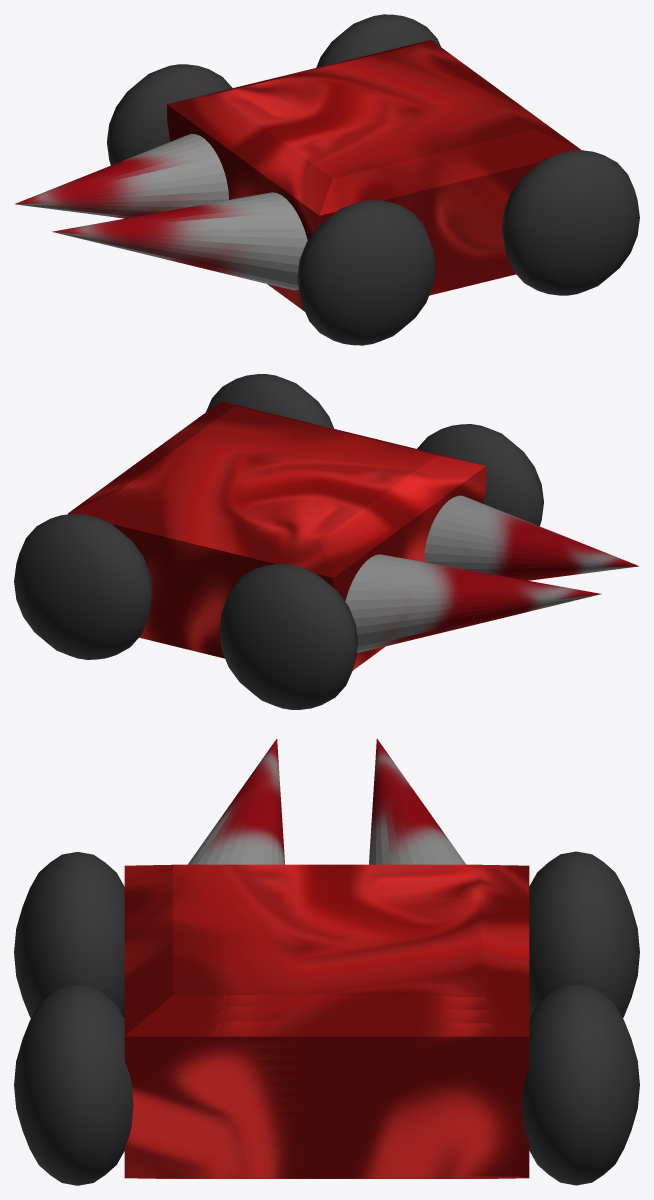
Rendered from monster.fbx.
3 views of the same model, one above another, from view 1: azimuth 30°, elevation 25°; view 2: azimuth 150°, elevation 25°; view 3: azimuth 270°, elevation 25° (orthographic). The views are drawn at different scales.
Visible parts, largest first — view 1: body, wheelfl, wheelbl, ld, rd, wheelfr, wheelbr; view 2: body, wheelbr, wheelfr, rd, ld, wheelfl, wheelbl; view 3: body, wheelbl, wheelbr, wheelfl, wheelfr, ld, rd.
Boxes of the visible parts, <box> form: body: <box>167,40,581,311</box>; wheelfl: <box>297,200,435,345</box>; wheelbl: <box>501,150,639,295</box>; ld: <box>52,192,307,290</box>; rd: <box>14,134,228,218</box>; wheelfr: <box>107,64,232,165</box>; wheelbr: <box>316,14,440,67</box>; body: <box>68,401,486,670</box>; wheelbr: <box>14,513,152,659</box>; wheelfr: <box>219,564,357,709</box>; rd: <box>345,554,601,652</box>; ld: <box>424,495,638,580</box>; wheelfl: <box>417,424,543,526</box>; wheelbl: <box>206,374,333,428</box>; body: <box>124,864,529,1178</box>; wheelbl: <box>14,984,133,1185</box>; wheelbr: <box>521,984,639,1185</box>; wheelfl: <box>14,852,124,1018</box>; wheelfr: <box>529,851,639,1017</box>; ld: <box>188,739,284,864</box>; rd: <box>369,739,465,864</box>.
Size of the model in its own units: 386 by 101 by 309.
Materials: 3 (2 with a texture image).
